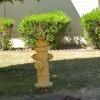a fire hydrant: (30, 40, 54, 89)
